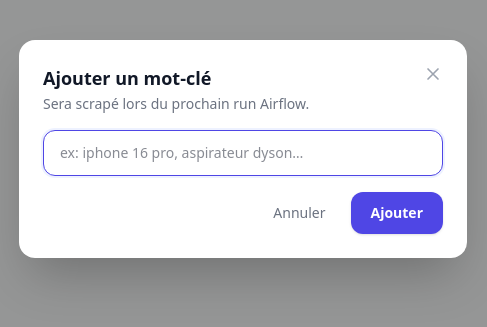
Test: AddKeywordModal › reste ouverte et affiche le refus du backend
In the field: (243, 153) [43, 130, 443, 176], type "lessive"
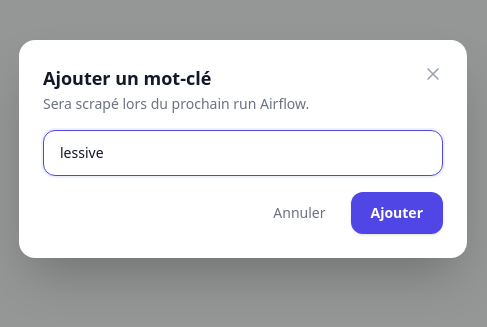
Click the button "Ajouter": click(397, 213) [350, 192, 443, 234]
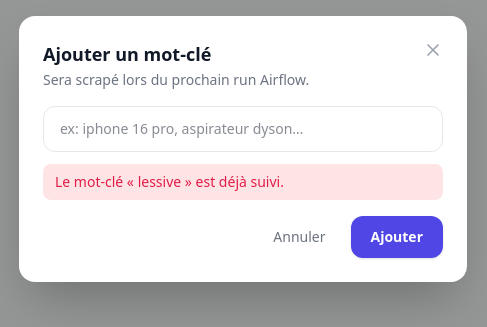
Expected: the text "Le mot-clé « lessive » est déjà suivi." is shown, [43, 164, 443, 200]
